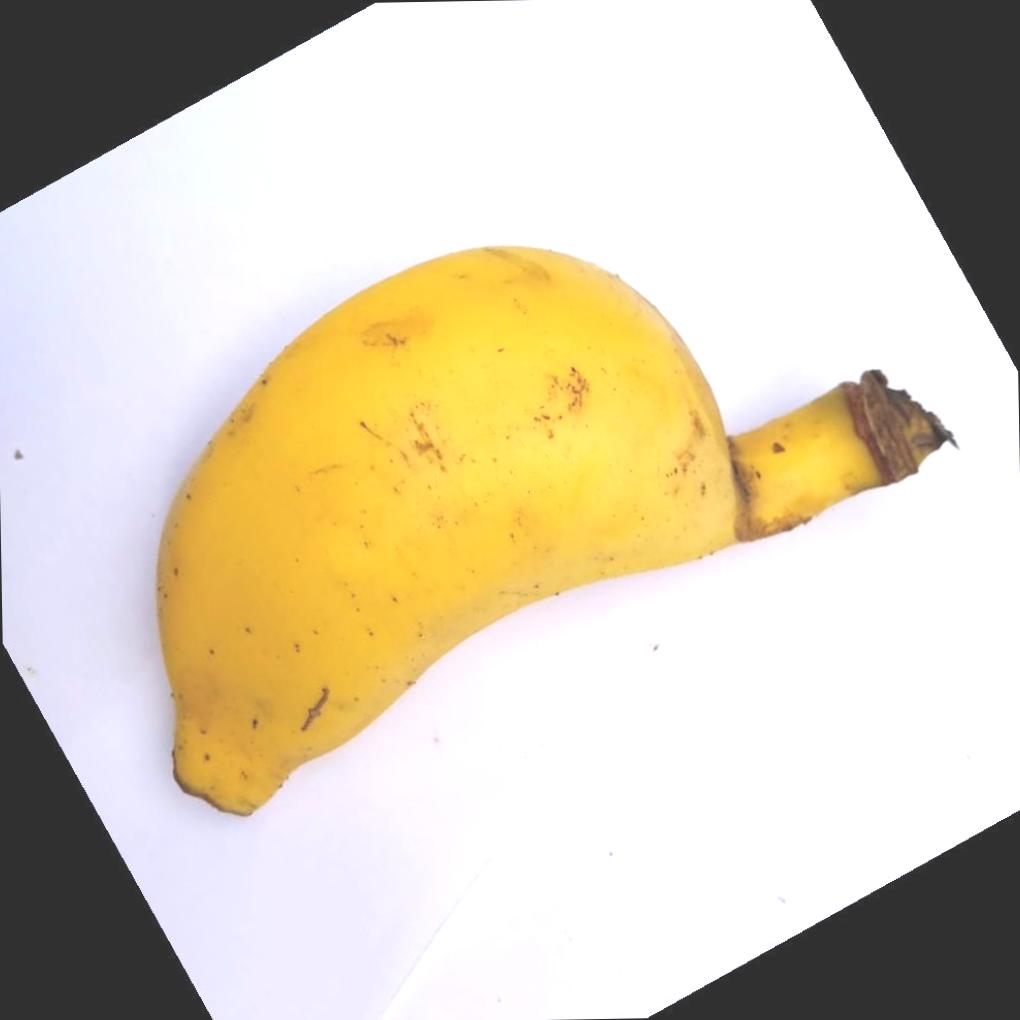Banana Ripe: (144, 229, 900, 796)
